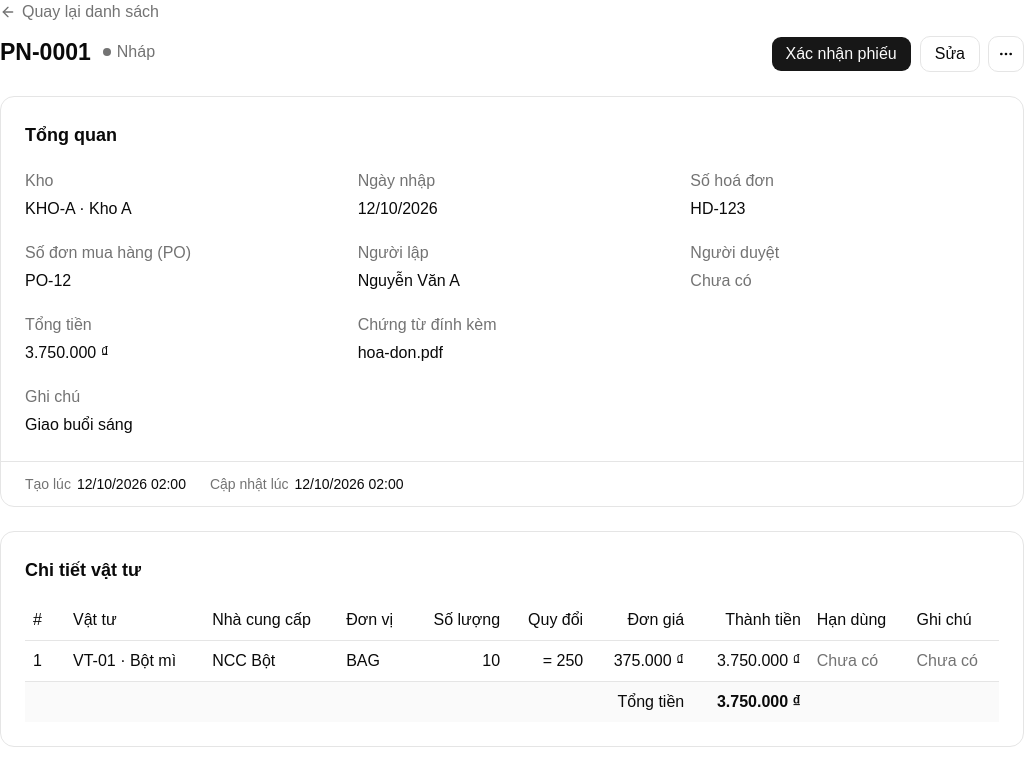
it: ImportFormDetailPage › sheet sửa, có MATERIAL_READ → ô vật tư true nút "Thêm vật tư vào kho…"
This screenshot has width=1024, height=768.
Click the button "Sửa". click: x=950, y=54
box: [920, 36, 980, 72]
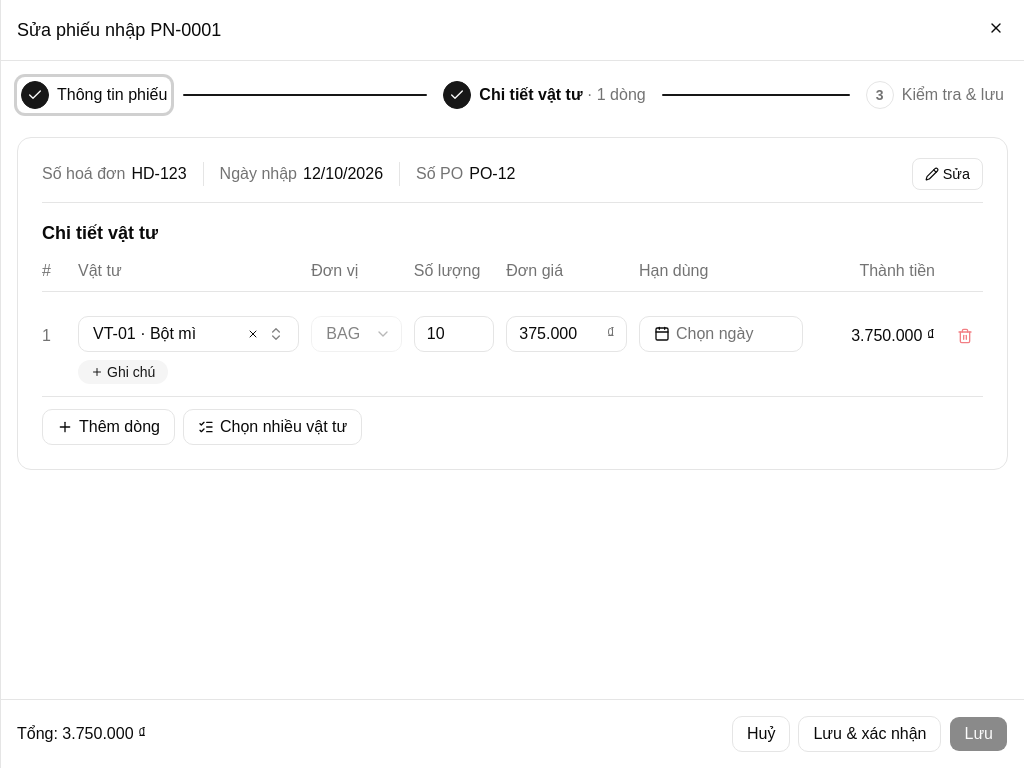
Now the dialog "Sửa phiếu nhập PN-0001" is shown
Click the dropdown named "Vật tư dòng 1". click: x=189, y=334
box: [78, 316, 299, 352]
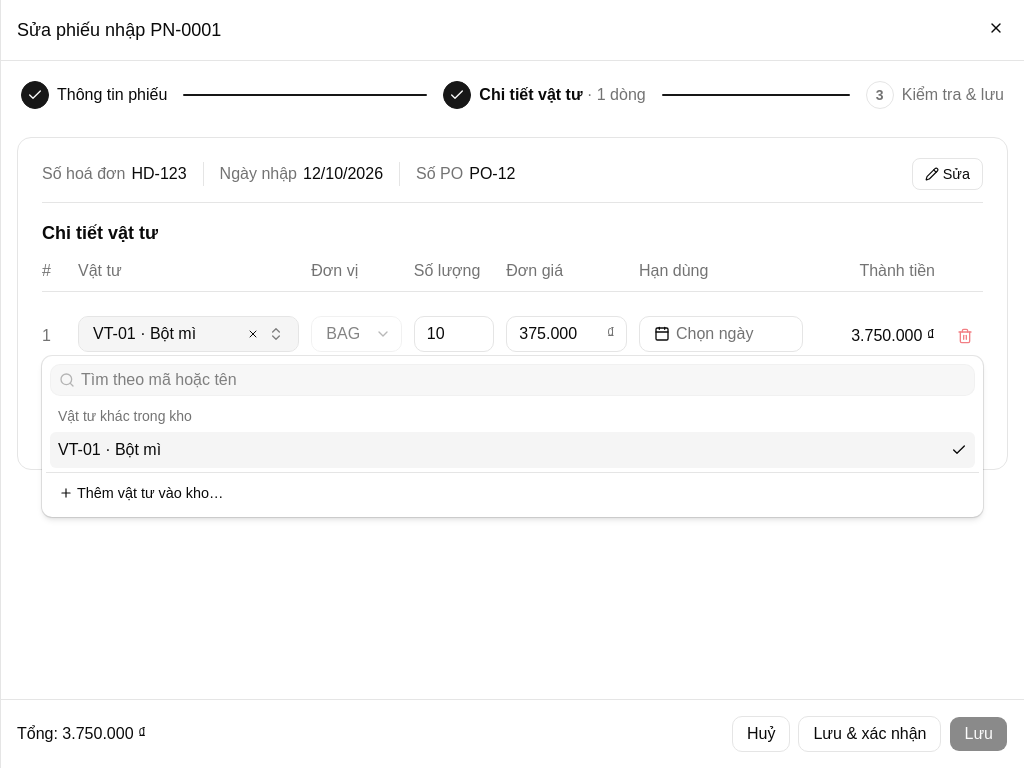
Now the button "Thêm vật tư vào kho…" is shown, box [50, 477, 975, 509]
